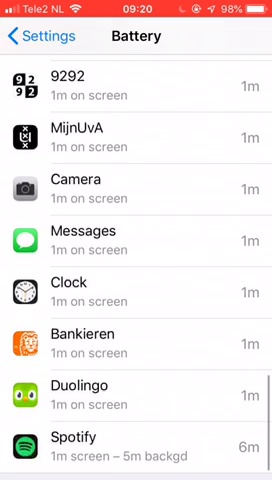app: (12, 116, 269, 157), (10, 167, 267, 208), (10, 218, 267, 259), (10, 271, 267, 312), (10, 322, 267, 363), (8, 373, 265, 414), (11, 427, 268, 468)
